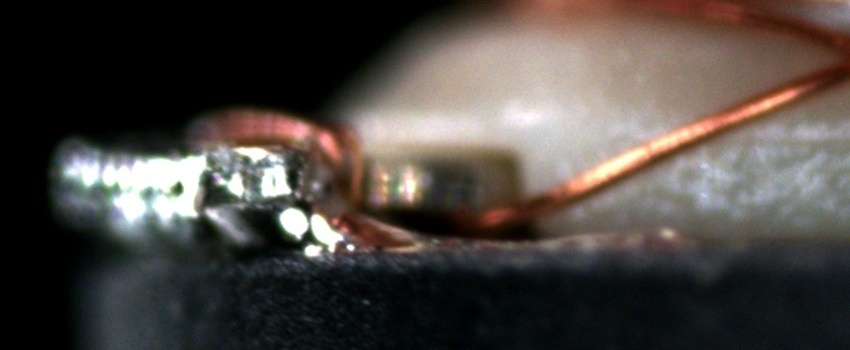DL: (632, 107, 849, 171)
TE: (200, 109, 370, 212)
